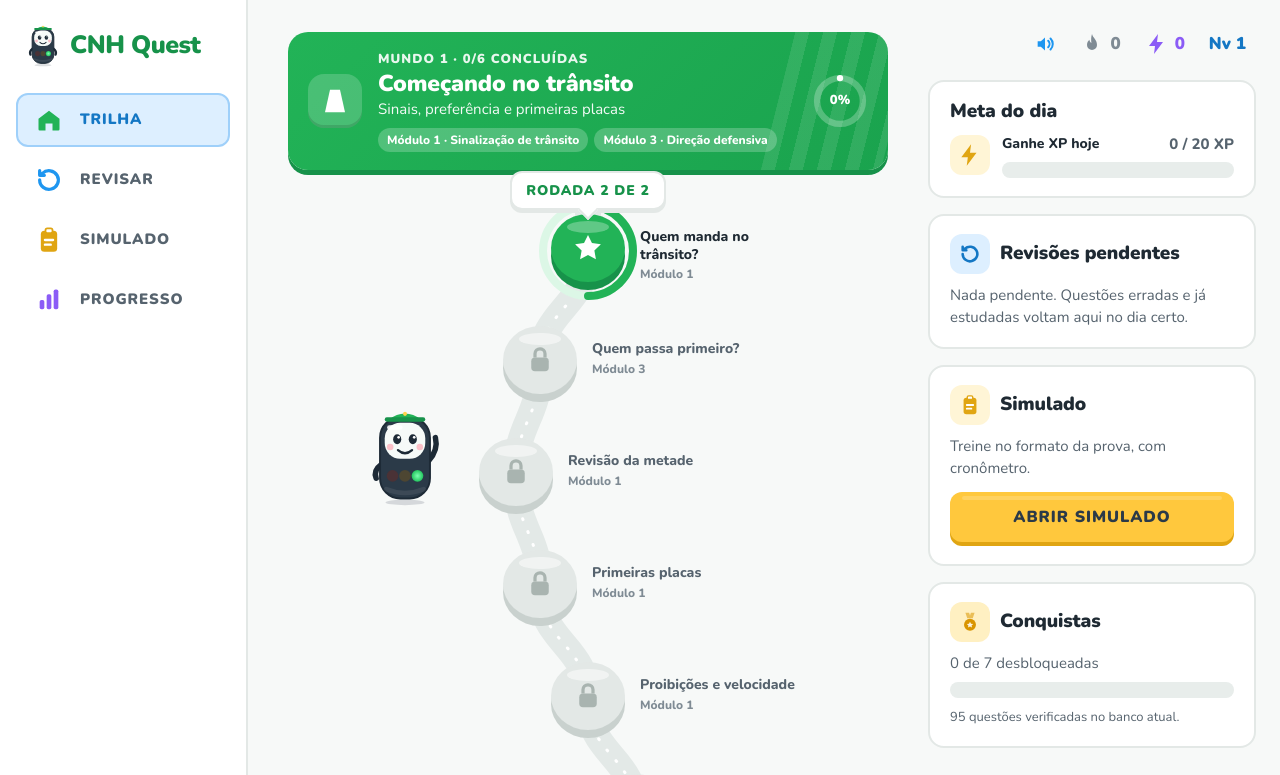
Test case: fluxo principal › com a rodada 1 feita, a lição abre direto na rodada de prática, sem cartões
Click the button named "Quem manda no trânsito?, disponível, 1 de 2 rodadas feitas": {"x": 588, "y": 248} [551,214,625,282]
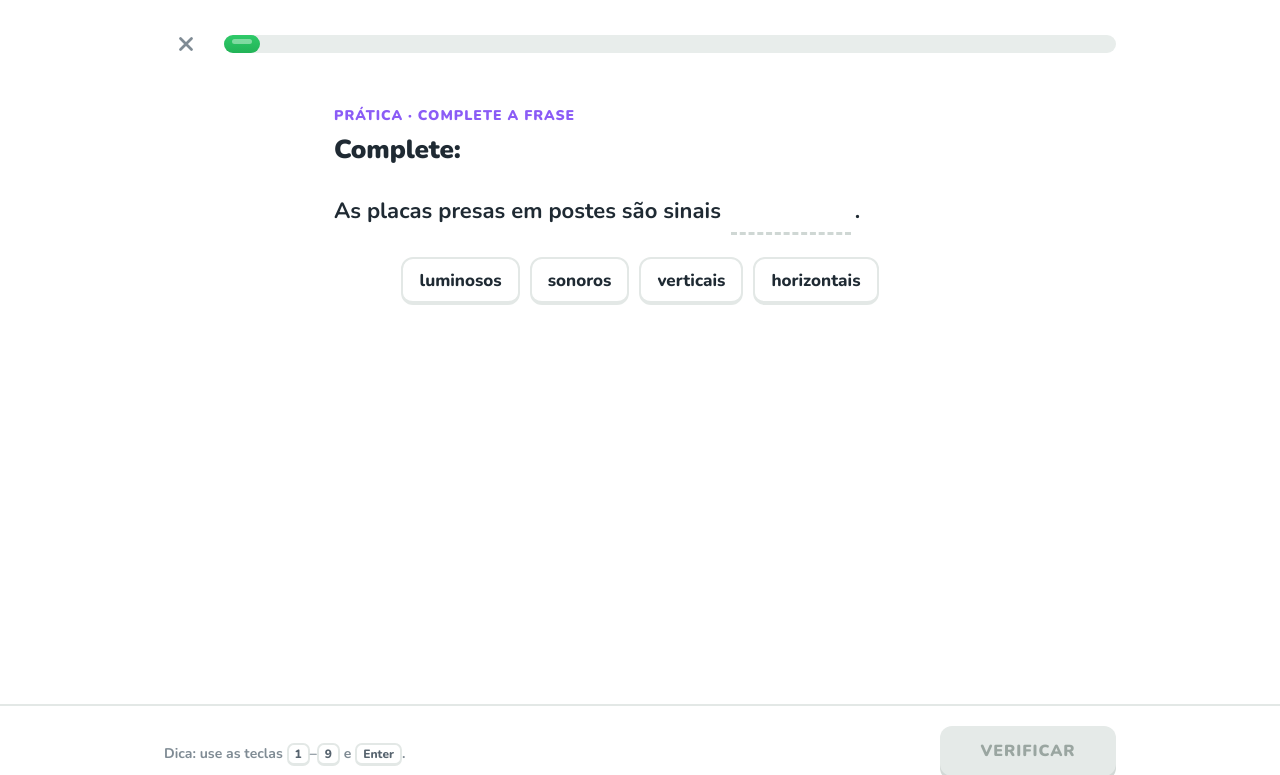
Now the text "Prática · Complete a frase" is shown, box [334,105,575,126]
